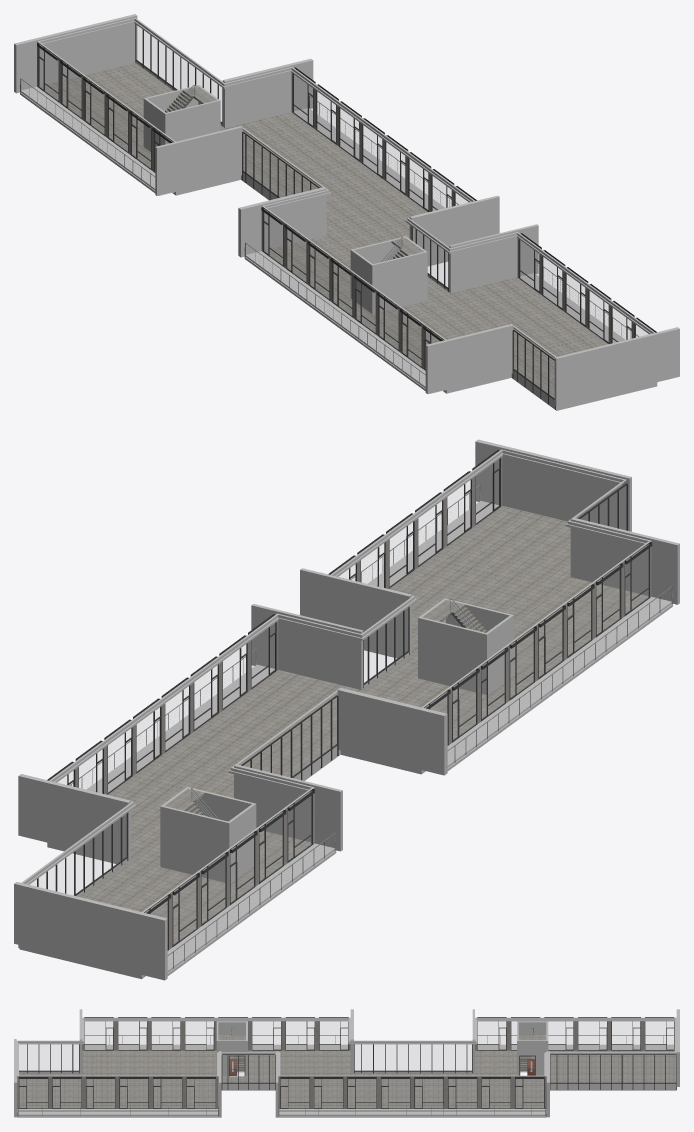
The model's file is sm_government_building_3f.FBX.
The picture shows the model from 3 angles, top to bottom: view 1: azimuth 30°, elevation 25°; view 2: azimuth 150°, elevation 25°; view 3: azimuth 270°, elevation 25°; orthographic projection. The views are drawn at different scales.
Visible parts, largest first — view 1: sm_government_building_3f; view 2: sm_government_building_3f; view 3: sm_government_building_3f.
Boxes of the visible parts, x1,y1,x2,y2 form: sm_government_building_3f: (14,14,679,410); sm_government_building_3f: (14,439,679,980); sm_government_building_3f: (14,1009,679,1117).
Size of the model in its own units: 1992 by 613 by 7638.
